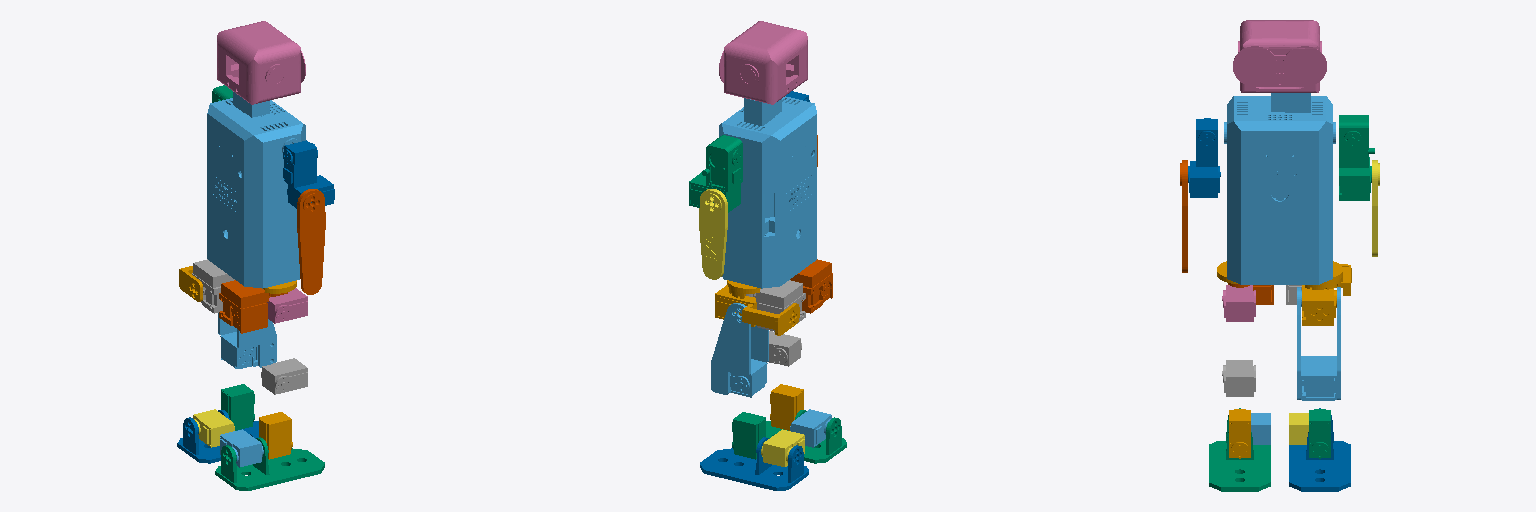
URDF robot description (jx0):
<?xml version="1.0"?>
<!-- generated by jx0/description/build_description.py: do not edit -->
<robot name="jx0">
  <link name="pelvis">
    <inertial>
      <origin xyz="0.00067658 0 0.0490736" rpy="0 0 0"/>
      <mass value="0.269"/>
      <inertia ixx="0.000523292" ixy="0" ixz="0" iyy="6.62058e-05" iyz="0" izz="0.000524273"/>
    </inertial>
    <visual>
      <origin xyz="0 0 0" rpy="0 0 0"/>
      <geometry><mesh filename="../meshes/JX0_Pelvis.stl" scale="0.001 0.001 0.001"/></geometry>
    </visual>
    <visual>
      <origin xyz="0 0.045 0" rpy="0 0 0"/>
      <geometry><mesh filename="../meshes/JX0_YawKeeper_L.stl" scale="0.001 0.001 0.001"/></geometry>
    </visual>
    <visual>
      <origin xyz="0 0.045 0" rpy="0 0 0"/>
      <geometry><mesh filename="../meshes/JX0_YawRing_L.stl" scale="0.001 0.001 0.001"/></geometry>
    </visual>
    <visual>
      <origin xyz="0 0.045 0.0491" rpy="3.14159 0 -1.5708"/>
      <geometry><mesh filename="../meshes/JX0_Servo_STS3215.stl" scale="0.001 0.001 0.001"/></geometry>
    </visual>
    <visual>
      <origin xyz="0 -0.045 0" rpy="0 0 0"/>
      <geometry><mesh filename="../meshes/JX0_YawKeeper_R.stl" scale="0.001 0.001 0.001"/></geometry>
    </visual>
    <visual>
      <origin xyz="0 -0.045 0" rpy="0 0 0"/>
      <geometry><mesh filename="../meshes/JX0_YawRing_R.stl" scale="0.001 0.001 0.001"/></geometry>
    </visual>
    <visual>
      <origin xyz="0 -0.045 0.0491" rpy="3.14159 0 1.5708"/>
      <geometry><mesh filename="../meshes/JX0_Servo_STS3215.stl" scale="0.001 0.001 0.001"/></geometry>
    </visual>
  </link>
  <link name="torso_link">
    <inertial>
      <origin xyz="0.0044 0 0.1653" rpy="0 0 0"/>
      <mass value="0.852"/>
      <inertia ixx="0.0058078" ixy="0" ixz="0" iyy="0.0042103" iyz="0" izz="0.0025063"/>
    </inertial>
    <visual>
      <origin xyz="0 0 0" rpy="0 0 0"/>
      <geometry><mesh filename="../meshes/JX0_Torso.stl" scale="0.001 0.001 0.001"/></geometry>
    </visual>
    <visual>
      <origin xyz="0 0 0" rpy="0 0 0"/>
      <geometry><mesh filename="../meshes/JX0_ChestCap.stl" scale="0.001 0.001 0.001"/></geometry>
    </visual>
    <visual>
      <origin xyz="0 0 0" rpy="0 0 0"/>
      <geometry><mesh filename="../meshes/JX0_CamClamp.stl" scale="0.001 0.001 0.001"/></geometry>
    </visual>
    <visual>
      <origin xyz="0 0 0.2516" rpy="0 0 1.5708"/>
      <geometry><mesh filename="../meshes/JX0_Servo_STS3215.stl" scale="0.001 0.001 0.001"/></geometry>
    </visual>
  </link>
  <link name="left_upper_arm_link">
    <inertial>
      <origin xyz="0.0064 0.0198 -0.0326" rpy="0 0 0"/>
      <mass value="0.204"/>
      <inertia ixx="0.00011" ixy="0" ixz="0" iyy="0.00013" iyz="0" izz="7e-05"/>
    </inertial>
    <visual>
      <origin xyz="0 0 0" rpy="0 0 0"/>
      <geometry><mesh filename="../meshes/JX0_UpperArm_L.stl" scale="0.001 0.001 0.001"/></geometry>
    </visual>
    <visual>
      <origin xyz="0 0.0188 0" rpy="0 1.5708 0"/>
      <geometry><mesh filename="../meshes/JX0_Servo_STS3215.stl" scale="0.001 0.001 0.001"/></geometry>
    </visual>
    <visual>
      <origin xyz="0 0.0222 -0.052" rpy="-1.5708 0 0"/>
      <geometry><mesh filename="../meshes/JX0_Servo_STS3215.stl" scale="0.001 0.001 0.001"/></geometry>
    </visual>
  </link>
  <link name="left_forearm_link">
    <inertial>
      <origin xyz="0.0008 0.0032 -0.0382" rpy="0 0 0"/>
      <mass value="0.016"/>
      <inertia ixx="1.5e-05" ixy="0" ixz="0" iyy="1.5e-05" iyz="0" izz="1.5e-06"/>
    </inertial>
    <visual>
      <origin xyz="0 0 0" rpy="0 0 0"/>
      <geometry><mesh filename="../meshes/JX0_ArmBlade_L.stl" scale="0.001 0.001 0.001"/></geometry>
    </visual>
  </link>
  <link name="right_upper_arm_link">
    <inertial>
      <origin xyz="0.0064 -0.0198 -0.0326" rpy="0 0 0"/>
      <mass value="0.204"/>
      <inertia ixx="0.00011" ixy="0" ixz="0" iyy="0.00013" iyz="0" izz="7e-05"/>
    </inertial>
    <visual>
      <origin xyz="0 0 0" rpy="0 0 0"/>
      <geometry><mesh filename="../meshes/JX0_UpperArm_R.stl" scale="0.001 0.001 0.001"/></geometry>
    </visual>
    <visual>
      <origin xyz="0 -0.0188 0" rpy="0 1.5708 0"/>
      <geometry><mesh filename="../meshes/JX0_Servo_STS3215.stl" scale="0.001 0.001 0.001"/></geometry>
    </visual>
    <visual>
      <origin xyz="0 -0.0222 -0.052" rpy="1.5708 0 0"/>
      <geometry><mesh filename="../meshes/JX0_Servo_STS3215.stl" scale="0.001 0.001 0.001"/></geometry>
    </visual>
  </link>
  <link name="right_forearm_link">
    <inertial>
      <origin xyz="0.0008 -0.0032 -0.0382" rpy="0 0 0"/>
      <mass value="0.016"/>
      <inertia ixx="1.5e-05" ixy="0" ixz="0" iyy="1.5e-05" iyz="0" izz="1.5e-06"/>
    </inertial>
    <visual>
      <origin xyz="0 0 0" rpy="0 0 0"/>
      <geometry><mesh filename="../meshes/JX0_ArmBlade_R.stl" scale="0.001 0.001 0.001"/></geometry>
    </visual>
  </link>
  <link name="head_link">
    <inertial>
      <origin xyz="0 0 0.035" rpy="0 0 0"/>
      <mass value="0.077"/>
      <inertia ixx="4e-05" ixy="0" ixz="0" iyy="4e-05" iyz="0" izz="4e-05"/>
    </inertial>
    <visual>
      <origin xyz="0 0 0" rpy="0 0 0"/>
      <geometry><mesh filename="../meshes/JX0_Head.stl" scale="0.001 0.001 0.001"/></geometry>
    </visual>
    <visual>
      <origin xyz="0.0358 0.028 0.035" rpy="0 0 0"/>
      <geometry><mesh filename="../meshes/JX0_EyeLens.stl" scale="0.001 0.001 0.001"/></geometry>
    </visual>
    <visual>
      <origin xyz="0.0358 -0.028 0.035" rpy="0 0 0"/>
      <geometry><mesh filename="../meshes/JX0_EyeLens.stl" scale="0.001 0.001 0.001"/></geometry>
    </visual>
    <visual>
      <origin xyz="0 0 0" rpy="0 0 0"/>
      <geometry><mesh filename="../meshes/JX0_NeckHub.stl" scale="0.001 0.001 0.001"/></geometry>
    </visual>
  </link>
  <link name="left_hip_yaw_link">
    <inertial>
      <origin xyz="-0.0308234 -0.0115345 0.0057931" rpy="0 0 0"/>
      <mass value="0.145"/>
      <inertia ixx="4.07101e-05" ixy="0" ixz="0" iyy="5.45606e-05" iyz="0" izz="5.12416e-05"/>
    </inertial>
    <visual>
      <origin xyz="0 0 0" rpy="0 0 0"/>
      <geometry><mesh filename="../meshes/JX0_HipYawBracket_L.stl" scale="0.001 0.001 0.001"/></geometry>
    </visual>
    <visual>
      <origin xyz="-0.0347 0 0" rpy="-1.5708 0 -1.5708"/>
      <geometry><mesh filename="../meshes/JX0_Servo_STS3215.stl" scale="0.001 0.001 0.001"/></geometry>
    </visual>
  </link>
  <link name="left_hip_roll_link">
    <inertial>
      <origin xyz="0.00558468 0.00197581 0.000564516" rpy="0 0 0"/>
      <mass value="0.124"/>
      <inertia ixx="3.40288e-05" ixy="0" ixz="0" iyy="4.28804e-05" iyz="0" izz="5.59343e-05"/>
    </inertial>
    <visual>
      <origin xyz="0 0 0" rpy="0 0 0"/>
      <geometry><mesh filename="../meshes/JX0_HipRollBracket_L.stl" scale="0.001 0.001 0.001"/></geometry>
    </visual>
    <visual>
      <origin xyz="0 0 0" rpy="-1.5708 0 0"/>
      <geometry><mesh filename="../meshes/JX0_Servo_STS3215.stl" scale="0.001 0.001 0.001"/></geometry>
    </visual>
  </link>
  <link name="left_thigh_link">
    <inertial>
      <origin xyz="0.0123027 -0.000789116 -0.0815578" rpy="0 0 0"/>
      <mass value="0.147"/>
      <inertia ixx="0.000103097" ixy="0" ixz="0" iyy="9.7056e-05" iyz="0" izz="4.38529e-05"/>
    </inertial>
    <visual>
      <origin xyz="0 0 0" rpy="0 0 0"/>
      <geometry><mesh filename="../meshes/JX0_Thigh_L.stl" scale="0.001 0.001 0.001"/></geometry>
    </visual>
    <collision>
      <origin xyz="0 0 0" rpy="0 0 0"/>
      <geometry><mesh filename="../meshes/JX0_Thigh_L.stl" scale="0.001 0.001 0.001"/></geometry>
    </collision>
    <visual>
      <origin xyz="0 0 -0.093" rpy="-1.5708 0 0"/>
      <geometry><mesh filename="../meshes/JX0_Servo_STS3215.stl" scale="0.001 0.001 0.001"/></geometry>
    </visual>
  </link>
  <link name="left_shin_link">
    <inertial>
      <origin xyz="0.000576 -0.000864 -0.0637" rpy="0 0 0"/>
      <mass value="0.125"/>
      <inertia ixx="8.68905e-05" ixy="0" ixz="0" iyy="7.61577e-05" iyz="0" izz="3.1916e-05"/>
    </inertial>
    <visual>
      <origin xyz="0 0 0" rpy="0 0 0"/>
      <geometry><mesh filename="../meshes/JX0_Shin_L.stl" scale="0.001 0.001 0.001"/></geometry>
    </visual>
    <collision>
      <origin xyz="0 0 0" rpy="0 0 0"/>
      <geometry><mesh filename="../meshes/JX0_Shin_L.stl" scale="0.001 0.001 0.001"/></geometry>
    </collision>
    <visual>
      <origin xyz="0 0 -0.087" rpy="0 -1.5708 0"/>
      <geometry><mesh filename="../meshes/JX0_Servo_STS3215.stl" scale="0.001 0.001 0.001"/></geometry>
    </visual>
  </link>
  <link name="left_ankle_pitch_link">
    <inertial>
      <origin xyz="-0.0375221 -0.00817176 0" rpy="0 0 0"/>
      <mass value="0.131"/>
      <inertia ixx="3.1866e-05" ixy="0" ixz="0" iyy="4.59e-05" iyz="0" izz="5.55629e-05"/>
    </inertial>
    <visual>
      <origin xyz="0 0 0" rpy="0 0 0"/>
      <geometry><mesh filename="../meshes/JX0_AnkleBracket_L.stl" scale="0.001 0.001 0.001"/></geometry>
    </visual>
    <visual>
      <origin xyz="-0.0408 0 0" rpy="-1.5708 0 -1.5708"/>
      <geometry><mesh filename="../meshes/JX0_Servo_STS3215.stl" scale="0.001 0.001 0.001"/></geometry>
    </visual>
  </link>
  <link name="left_foot_link">
    <inertial>
      <origin xyz="-0.014 0 -0.026" rpy="0 0 0"/>
      <mass value="0.061"/>
      <inertia ixx="2.94833e-05" ixy="0" ixz="0" iyy="8.27363e-05" iyz="0" izz="0.00010307"/>
    </inertial>
    <visual>
      <origin xyz="0 0 0" rpy="0 0 0"/>
      <geometry><mesh filename="../meshes/JX0_Foot.stl" scale="0.001 0.001 0.001"/></geometry>
    </visual>
    <collision name="left_foot_link_sole">
      <origin xyz="-0.006 0 -0.032" rpy="0 0 0"/>
      <geometry><box size="0.124 0.07 0.002"/></geometry>
    </collision>
  </link>
  <link name="right_hip_yaw_link">
    <inertial>
      <origin xyz="-0.0308234 0.0115345 0.0057931" rpy="0 0 0"/>
      <mass value="0.145"/>
      <inertia ixx="4.07101e-05" ixy="0" ixz="0" iyy="5.45606e-05" iyz="0" izz="5.12416e-05"/>
    </inertial>
    <visual>
      <origin xyz="0 0 0" rpy="0 0 0"/>
      <geometry><mesh filename="../meshes/JX0_HipYawBracket_R.stl" scale="0.001 0.001 0.001"/></geometry>
    </visual>
    <visual>
      <origin xyz="-0.0347 0 0" rpy="1.5708 0 1.5708"/>
      <geometry><mesh filename="../meshes/JX0_Servo_STS3215.stl" scale="0.001 0.001 0.001"/></geometry>
    </visual>
  </link>
  <link name="right_hip_roll_link">
    <inertial>
      <origin xyz="0.00558468 -0.00197581 0.000564516" rpy="0 0 0"/>
      <mass value="0.124"/>
      <inertia ixx="3.40288e-05" ixy="0" ixz="0" iyy="4.28804e-05" iyz="0" izz="5.59343e-05"/>
    </inertial>
    <visual>
      <origin xyz="0 0 0" rpy="0 0 0"/>
      <geometry><mesh filename="../meshes/JX0_HipRollBracket_R.stl" scale="0.001 0.001 0.001"/></geometry>
    </visual>
    <visual>
      <origin xyz="0 0 0" rpy="1.5708 0 0"/>
      <geometry><mesh filename="../meshes/JX0_Servo_STS3215.stl" scale="0.001 0.001 0.001"/></geometry>
    </visual>
  </link>
  <link name="right_thigh_link">
    <inertial>
      <origin xyz="0.0123027 0.000789116 -0.0815578" rpy="0 0 0"/>
      <mass value="0.147"/>
      <inertia ixx="0.000103097" ixy="0" ixz="0" iyy="9.7056e-05" iyz="0" izz="4.38529e-05"/>
    </inertial>
    <visual>
      <origin xyz="0 0 0" rpy="0 0 0"/>
      <geometry><mesh filename="../meshes/JX0_Thigh_R.stl" scale="0.001 0.001 0.001"/></geometry>
    </visual>
    <collision>
      <origin xyz="0 0 0" rpy="0 0 0"/>
      <geometry><mesh filename="../meshes/JX0_Thigh_R.stl" scale="0.001 0.001 0.001"/></geometry>
    </collision>
    <visual>
      <origin xyz="0 0 -0.093" rpy="1.5708 0 0"/>
      <geometry><mesh filename="../meshes/JX0_Servo_STS3215.stl" scale="0.001 0.001 0.001"/></geometry>
    </visual>
  </link>
  <link name="right_shin_link">
    <inertial>
      <origin xyz="0.000576 0.000864 -0.0637" rpy="0 0 0"/>
      <mass value="0.125"/>
      <inertia ixx="8.68905e-05" ixy="0" ixz="0" iyy="7.61577e-05" iyz="0" izz="3.1916e-05"/>
    </inertial>
    <visual>
      <origin xyz="0 0 0" rpy="0 0 0"/>
      <geometry><mesh filename="../meshes/JX0_Shin_R.stl" scale="0.001 0.001 0.001"/></geometry>
    </visual>
    <collision>
      <origin xyz="0 0 0" rpy="0 0 0"/>
      <geometry><mesh filename="../meshes/JX0_Shin_R.stl" scale="0.001 0.001 0.001"/></geometry>
    </collision>
    <visual>
      <origin xyz="0 0 -0.087" rpy="0 -1.5708 0"/>
      <geometry><mesh filename="../meshes/JX0_Servo_STS3215.stl" scale="0.001 0.001 0.001"/></geometry>
    </visual>
  </link>
  <link name="right_ankle_pitch_link">
    <inertial>
      <origin xyz="-0.0375221 0.00817176 0" rpy="0 0 0"/>
      <mass value="0.131"/>
      <inertia ixx="3.1866e-05" ixy="0" ixz="0" iyy="4.59e-05" iyz="0" izz="5.55629e-05"/>
    </inertial>
    <visual>
      <origin xyz="0 0 0" rpy="0 0 0"/>
      <geometry><mesh filename="../meshes/JX0_AnkleBracket_R.stl" scale="0.001 0.001 0.001"/></geometry>
    </visual>
    <visual>
      <origin xyz="-0.0408 0 0" rpy="1.5708 0 1.5708"/>
      <geometry><mesh filename="../meshes/JX0_Servo_STS3215.stl" scale="0.001 0.001 0.001"/></geometry>
    </visual>
  </link>
  <link name="right_foot_link">
    <inertial>
      <origin xyz="-0.014 -0 -0.026" rpy="0 0 0"/>
      <mass value="0.061"/>
      <inertia ixx="2.94833e-05" ixy="0" ixz="0" iyy="8.27363e-05" iyz="0" izz="0.00010307"/>
    </inertial>
    <visual>
      <origin xyz="0 0 0" rpy="0 0 0"/>
      <geometry><mesh filename="../meshes/JX0_Foot.stl" scale="0.001 0.001 0.001"/></geometry>
    </visual>
    <collision name="right_foot_link_sole">
      <origin xyz="-0.006 0 -0.032" rpy="0 0 0"/>
      <geometry><box size="0.124 0.07 0.002"/></geometry>
    </collision>
  </link>
  <joint name="torso_link_fixed" type="fixed">
    <origin xyz="0 0 0" rpy="0 0 0"/>
    <parent link="pelvis"/>
    <child link="torso_link"/>
  </joint>
  <joint name="left_shoulder_pitch_joint" type="revolute">
    <origin xyz="0.0125 0.063 0.212" rpy="0 0 0"/>
    <parent link="torso_link"/>
    <child link="left_upper_arm_link"/>
    <axis xyz="0 1 0"/>
    <limit lower="-2.87979" upper="1.0472" effort="2.94" velocity="4.72"/>
    <dynamics damping="0.01" friction="0"/>
  </joint>
  <joint name="left_elbow_joint" type="revolute">
    <origin xyz="0 0.041 -0.052" rpy="0 0 0"/>
    <parent link="left_upper_arm_link"/>
    <child link="left_forearm_link"/>
    <axis xyz="0 1 0"/>
    <limit lower="-2.00713" upper="0.523599" effort="2.94" velocity="4.72"/>
    <dynamics damping="0.01" friction="0"/>
  </joint>
  <joint name="right_shoulder_pitch_joint" type="revolute">
    <origin xyz="0.0125 -0.063 0.212" rpy="0 0 0"/>
    <parent link="torso_link"/>
    <child link="right_upper_arm_link"/>
    <axis xyz="0 1 0"/>
    <limit lower="-2.87979" upper="1.0472" effort="2.94" velocity="4.72"/>
    <dynamics damping="0.01" friction="0"/>
  </joint>
  <joint name="right_elbow_joint" type="revolute">
    <origin xyz="0 -0.041 -0.052" rpy="0 0 0"/>
    <parent link="right_upper_arm_link"/>
    <child link="right_forearm_link"/>
    <axis xyz="0 1 0"/>
    <limit lower="-2.00713" upper="0.523599" effort="2.94" velocity="4.72"/>
    <dynamics damping="0.01" friction="0"/>
  </joint>
  <joint name="neck_yaw_joint" type="revolute">
    <origin xyz="0 0 0.2704" rpy="0 0 0"/>
    <parent link="torso_link"/>
    <child link="head_link"/>
    <axis xyz="0 0 1"/>
    <limit lower="-1.39626" upper="1.39626" effort="2.94" velocity="4.72"/>
    <dynamics damping="0.01" friction="0"/>
  </joint>
  <joint name="left_hip_yaw_joint" type="revolute">
    <origin xyz="0 0.045 0" rpy="0 0 0"/>
    <parent link="pelvis"/>
    <child link="left_hip_yaw_link"/>
    <axis xyz="0 0 1"/>
    <limit lower="-0.20944" upper="0.20944" effort="2.94" velocity="4.72"/>
    <dynamics damping="0.01" friction="0"/>
  </joint>
  <joint name="left_hip_roll_joint" type="revolute">
    <origin xyz="0 0 0" rpy="0 0 0"/>
    <parent link="left_hip_yaw_link"/>
    <child link="left_hip_roll_link"/>
    <axis xyz="1 0 0"/>
    <limit lower="-0.349066" upper="0.349066" effort="2.94" velocity="4.72"/>
    <dynamics damping="0.01" friction="0"/>
  </joint>
  <joint name="left_hip_pitch_joint" type="revolute">
    <origin xyz="0 0 0" rpy="0 0 0"/>
    <parent link="left_hip_roll_link"/>
    <child link="left_thigh_link"/>
    <axis xyz="0 1 0"/>
    <limit lower="-1.22173" upper="0.139626" effort="2.94" velocity="4.72"/>
    <dynamics damping="0.01" friction="0"/>
  </joint>
  <joint name="left_knee_joint" type="revolute">
    <origin xyz="0 0 -0.093" rpy="0 0 0"/>
    <parent link="left_thigh_link"/>
    <child link="left_shin_link"/>
    <axis xyz="0 1 0"/>
    <limit lower="0" upper="1.46608" effort="2.94" velocity="4.72"/>
    <dynamics damping="0.01" friction="0"/>
  </joint>
  <joint name="left_ankle_pitch_joint" type="revolute">
    <origin xyz="0 0 -0.087" rpy="0 0 0"/>
    <parent link="left_shin_link"/>
    <child link="left_ankle_pitch_link"/>
    <axis xyz="0 1 0"/>
    <limit lower="-0.959931" upper="0" effort="2.94" velocity="4.72"/>
    <dynamics damping="0.01" friction="0"/>
  </joint>
  <joint name="left_ankle_roll_joint" type="revolute">
    <origin xyz="0 0 0" rpy="0 0 0"/>
    <parent link="left_ankle_pitch_link"/>
    <child link="left_foot_link"/>
    <axis xyz="1 0 0"/>
    <limit lower="-0.349066" upper="0.349066" effort="2.94" velocity="4.72"/>
    <dynamics damping="0.01" friction="0"/>
  </joint>
  <joint name="right_hip_yaw_joint" type="revolute">
    <origin xyz="0 -0.045 0" rpy="0 0 0"/>
    <parent link="pelvis"/>
    <child link="right_hip_yaw_link"/>
    <axis xyz="0 0 1"/>
    <limit lower="-0.20944" upper="0.20944" effort="2.94" velocity="4.72"/>
    <dynamics damping="0.01" friction="0"/>
  </joint>
  <joint name="right_hip_roll_joint" type="revolute">
    <origin xyz="0 0 0" rpy="0 0 0"/>
    <parent link="right_hip_yaw_link"/>
    <child link="right_hip_roll_link"/>
    <axis xyz="1 0 0"/>
    <limit lower="-0.349066" upper="0.314159" effort="2.94" velocity="4.72"/>
    <dynamics damping="0.01" friction="0"/>
  </joint>
  <joint name="right_hip_pitch_joint" type="revolute">
    <origin xyz="0 0 0" rpy="0 0 0"/>
    <parent link="right_hip_roll_link"/>
    <child link="right_thigh_link"/>
    <axis xyz="0 1 0"/>
    <limit lower="-1.22173" upper="0.139626" effort="2.94" velocity="4.72"/>
    <dynamics damping="0.01" friction="0"/>
  </joint>
  <joint name="right_knee_joint" type="revolute">
    <origin xyz="0 0 -0.093" rpy="0 0 0"/>
    <parent link="right_thigh_link"/>
    <child link="right_shin_link"/>
    <axis xyz="0 1 0"/>
    <limit lower="0" upper="1.46608" effort="2.94" velocity="4.72"/>
    <dynamics damping="0.01" friction="0"/>
  </joint>
  <joint name="right_ankle_pitch_joint" type="revolute">
    <origin xyz="0 0 -0.087" rpy="0 0 0"/>
    <parent link="right_shin_link"/>
    <child link="right_ankle_pitch_link"/>
    <axis xyz="0 1 0"/>
    <limit lower="-0.959931" upper="0" effort="2.94" velocity="4.72"/>
    <dynamics damping="0.01" friction="0"/>
  </joint>
  <joint name="right_ankle_roll_joint" type="revolute">
    <origin xyz="0 0 0" rpy="0 0 0"/>
    <parent link="right_ankle_pitch_link"/>
    <child link="right_foot_link"/>
    <axis xyz="1 0 0"/>
    <limit lower="-0.349066" upper="0.349066" effort="2.94" velocity="4.72"/>
    <dynamics damping="0.01" friction="0"/>
  </joint>
  <link name="left_sole_link"/>
  <joint name="left_sole_fixed" type="fixed">
    <origin xyz="0 0 -0.033" rpy="0 0 0"/>
    <parent link="left_foot_link"/>
    <child link="left_sole_link"/>
  </joint>
  <link name="right_sole_link"/>
  <joint name="right_sole_fixed" type="fixed">
    <origin xyz="0 0 -0.033" rpy="0 0 0"/>
    <parent link="right_foot_link"/>
    <child link="right_sole_link"/>
  </joint>
</robot>

--- What the picture shows (computed from the rendered views, not written in the file) ---
3 views of the same robot in one strip: view 1: azimuth 30°, elevation 25°; view 2: azimuth 150°, elevation 25°; view 3: azimuth 270°, elevation 25° (orthographic).
Robot: jx0 — 21 links, 20 joints (17 revolute, 3 fixed); root link pelvis; default pose: all joints at 0.
Visible links, largest first — view 1: torso_link, head_link, right_foot_link, right_forearm_link, left_thigh_link, right_hip_yaw_link, right_upper_arm_link, right_thigh_link, left_foot_link, right_shin_link, left_shin_link, left_hip_yaw_link (+4 smaller); view 2: torso_link, head_link, left_thigh_link, left_foot_link, left_upper_arm_link, left_forearm_link, left_hip_roll_link, right_hip_yaw_link, left_hip_yaw_link, left_shin_link, right_foot_link, right_shin_link (+3 smaller); view 3: torso_link, head_link, left_upper_arm_link, left_foot_link, right_foot_link, left_thigh_link, right_upper_arm_link, left_hip_roll_link, right_thigh_link, right_hip_roll_link, left_shin_link, right_shin_link (+5 smaller).
Link boxes in pixels (left/top/right/bottom): torso_link: left=207, top=92, right=305, bottom=288; head_link: left=217, top=21, right=305, bottom=104; right_foot_link: left=215, top=437, right=324, bottom=490; right_forearm_link: left=297, top=189, right=325, bottom=294; left_thigh_link: left=218, top=313, right=276, bottom=368; right_hip_yaw_link: left=219, top=280, right=287, bottom=333; right_upper_arm_link: left=283, top=140, right=334, bottom=208; right_thigh_link: left=261, top=358, right=307, bottom=394; left_foot_link: left=177, top=410, right=258, bottom=463; right_shin_link: left=259, top=412, right=292, bottom=459; left_shin_link: left=221, top=384, right=254, bottom=430; left_hip_yaw_link: left=192, top=259, right=234, bottom=313; torso_link: left=719, top=96, right=816, bottom=288; head_link: left=719, top=21, right=807, bottom=104; left_thigh_link: left=711, top=303, right=768, bottom=397; left_foot_link: left=700, top=437, right=808, bottom=490; left_upper_arm_link: left=689, top=135, right=742, bottom=212; left_forearm_link: left=699, top=189, right=727, bottom=279; left_hip_roll_link: left=715, top=285, right=799, bottom=335; right_hip_yaw_link: left=790, top=259, right=832, bottom=313; left_hip_yaw_link: left=746, top=280, right=805, bottom=331; left_shin_link: left=732, top=412, right=765, bottom=459; right_foot_link: left=766, top=410, right=846, bottom=463; right_shin_link: left=770, top=384, right=803, bottom=430; torso_link: left=1224, top=93, right=1335, bottom=284; head_link: left=1233, top=20, right=1326, bottom=92; left_upper_arm_link: left=1339, top=115, right=1374, bottom=200; left_foot_link: left=1289, top=408, right=1350, bottom=491; right_foot_link: left=1209, top=408, right=1270, bottom=491; left_thigh_link: left=1297, top=287, right=1340, bottom=400; right_upper_arm_link: left=1188, top=118, right=1220, bottom=197; left_hip_roll_link: left=1302, top=264, right=1351, bottom=325; right_thigh_link: left=1222, top=360, right=1255, bottom=396; right_hip_roll_link: left=1222, top=285, right=1255, bottom=321; left_shin_link: left=1309, top=409, right=1330, bottom=458; right_shin_link: left=1229, top=409, right=1250, bottom=458.
Bounding box of the posed robot: 0.124 × 0.224 × 0.5494 m (x, y, z).
36 mesh visuals loaded from 27 distinct referenced files (18 binary STL); not drawn: 9 (reference not matched to a file when rendering).
